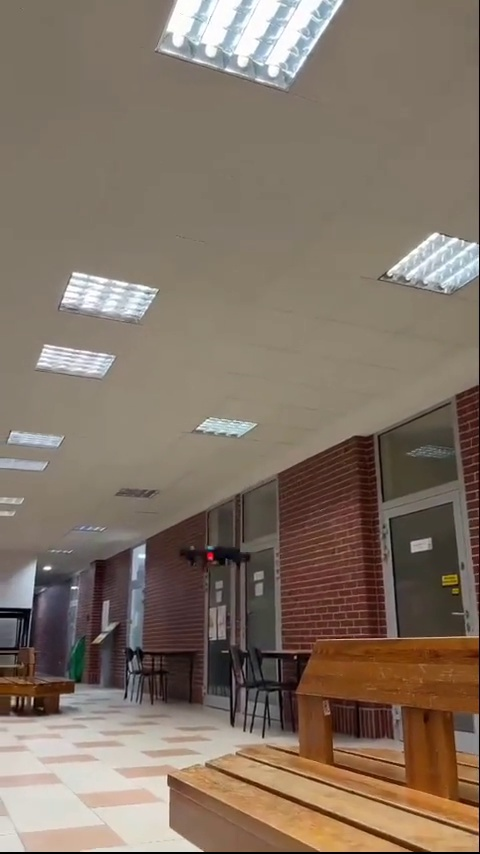drone: (176, 542, 251, 572)
